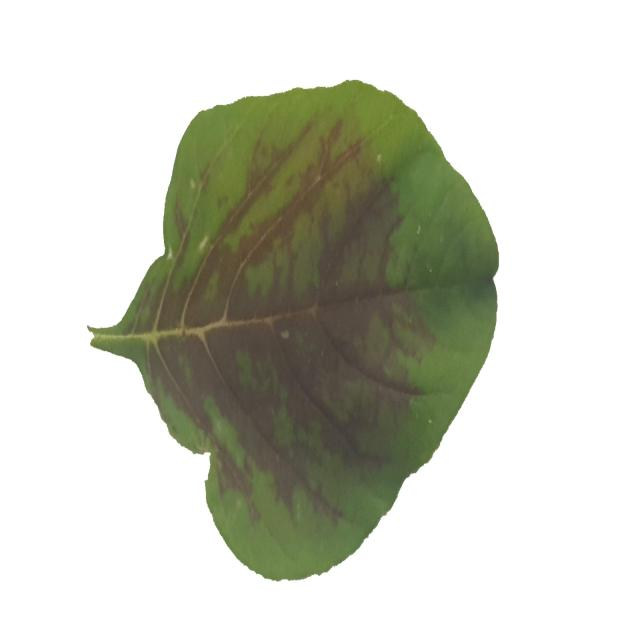Medicinal-Arive Dantu: (89, 77, 500, 580)
